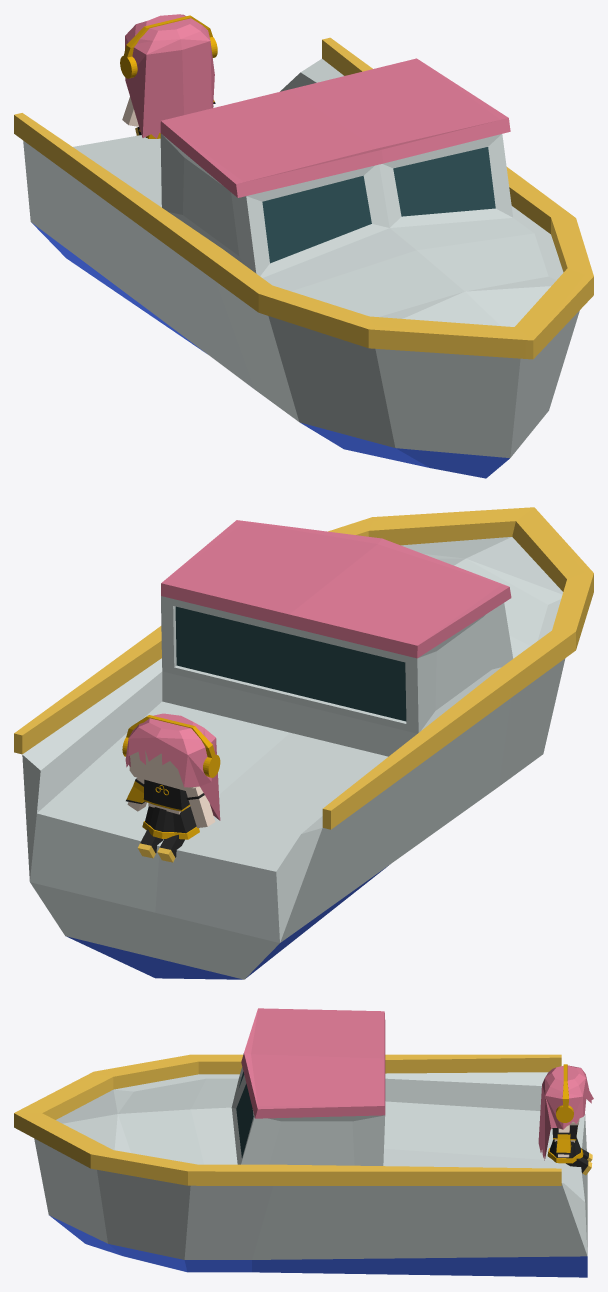
The model's file is littleshipluka.glb.
3 renders of one model, top to bottom at view 1: azimuth 30°, elevation 25°; view 2: azimuth 150°, elevation 25°; view 3: azimuth 270°, elevation 25°, orthographic. The views are drawn at different scales.
Visible parts, largest first — view 1: Cube, 球体, Cylinder; view 2: Cube, 球体, 立方体.003, 立方体, 立方体.004, Cylinder, 立方体.013; view 3: Cube, 球体, Cylinder.
Boxes of the visible parts, bbox=[...] form: Cube: bbox=[14, 37, 593, 478]; 球体: bbox=[125, 14, 214, 138]; Cylinder: bbox=[120, 15, 217, 78]; Cube: bbox=[14, 507, 593, 979]; 球体: bbox=[125, 713, 220, 820]; 立方体.003: bbox=[129, 750, 193, 791]; 立方体: bbox=[145, 806, 196, 833]; 立方体.004: bbox=[143, 779, 190, 811]; Cylinder: bbox=[122, 715, 220, 777]; 立方体.013: bbox=[186, 786, 215, 827]; Cube: bbox=[14, 1008, 587, 1277]; 球体: bbox=[538, 1065, 593, 1160]; Cylinder: bbox=[556, 1064, 573, 1122].
Size of the model in its own units: 3.04 by 2.51 by 6.36.
